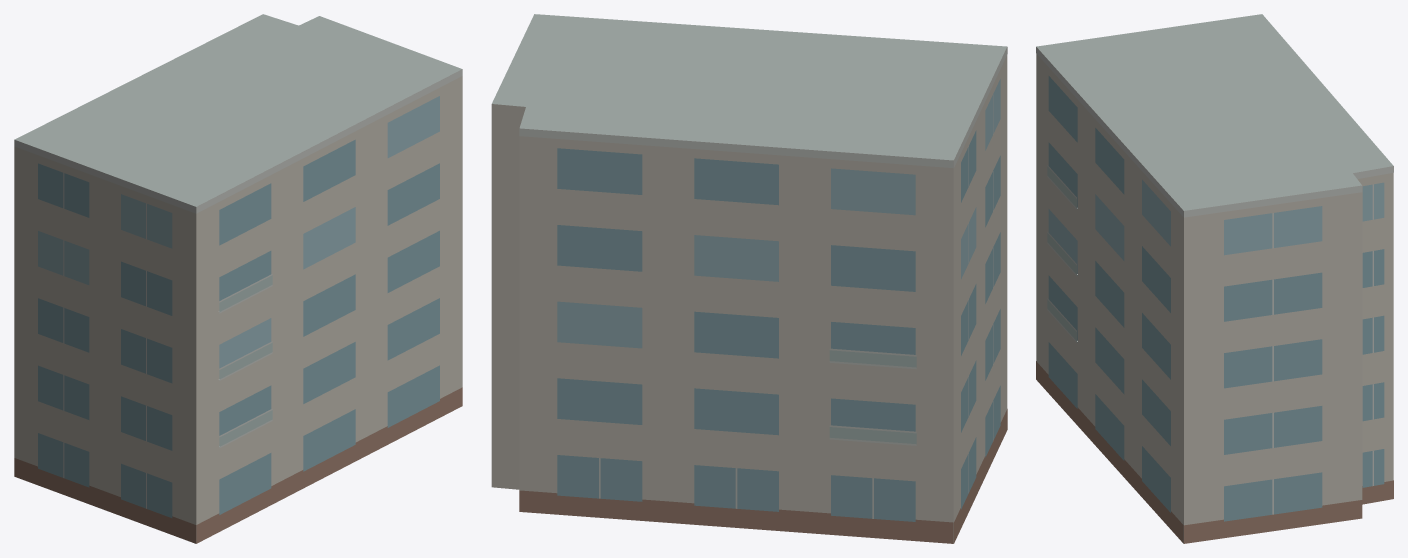
Rendered from survey-upis-32863997.glb.
3 views of the same model, side by side, from view 1: azimuth 30°, elevation 25°; view 2: azimuth 150°, elevation 25°; view 3: azimuth 270°, elevation 25° (orthographic). The views are drawn at different scales.
Parts seen in each view (by area): view 1: survey-upis-32863997.tmp; view 2: survey-upis-32863997.tmp; view 3: survey-upis-32863997.tmp.
Boxes of the visible parts, <box> form: survey-upis-32863997.tmp: <box>14,14,462,543</box>; survey-upis-32863997.tmp: <box>491,14,1007,543</box>; survey-upis-32863997.tmp: <box>1036,14,1393,543</box>.
Bounding box in the file's own units: 15.32 × 12.07 × 11.76.
